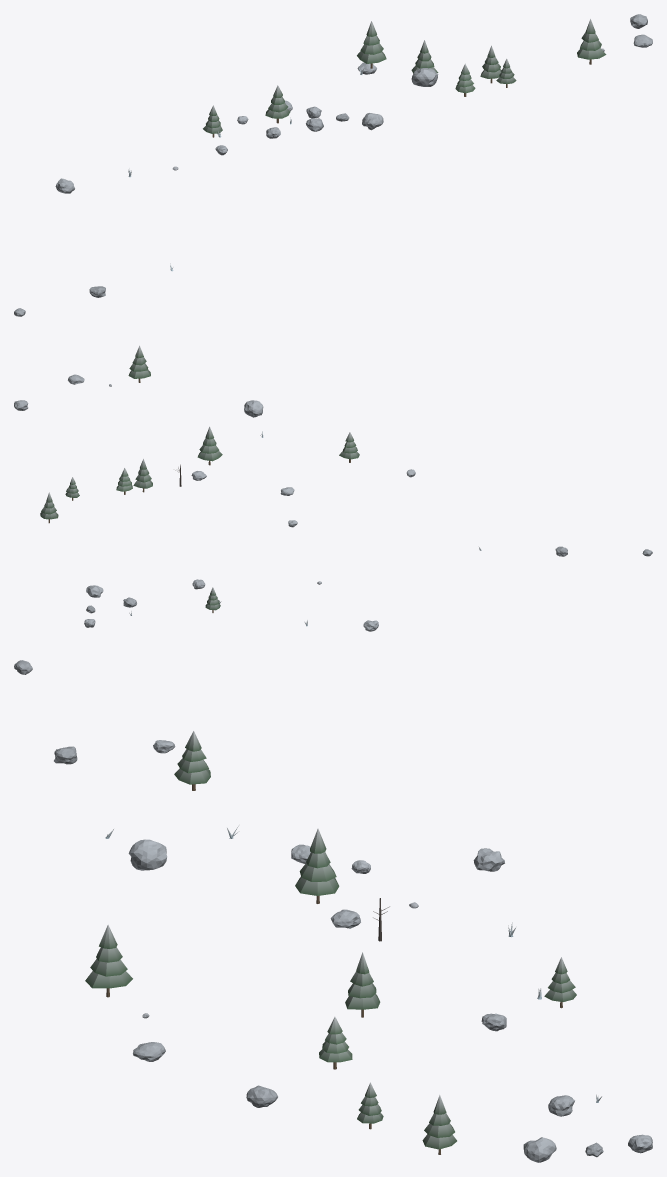
The model's file is frost_land_scatter_c17_08.glb.
3 renders of one model, top to bottom at view 1: azimuth 30°, elevation 25°; view 2: azimuth 150°, elevation 25°; view 3: azimuth 270°, elevation 25°, orthographic. The views are drawn at different scales.
Parts seen in each view (by area): view 1: frost_land_scatter_c17_08; view 2: frost_land_scatter_c17_08; view 3: frost_land_scatter_c17_08.
Part boxes in pixels (bbox=[...]): frost_land_scatter_c17_08: bbox=[14, 14, 652, 316]; frost_land_scatter_c17_08: bbox=[14, 345, 652, 631]; frost_land_scatter_c17_08: bbox=[14, 660, 652, 1162].
Size of the model in its own units: 213 by 56.45 by 105.
